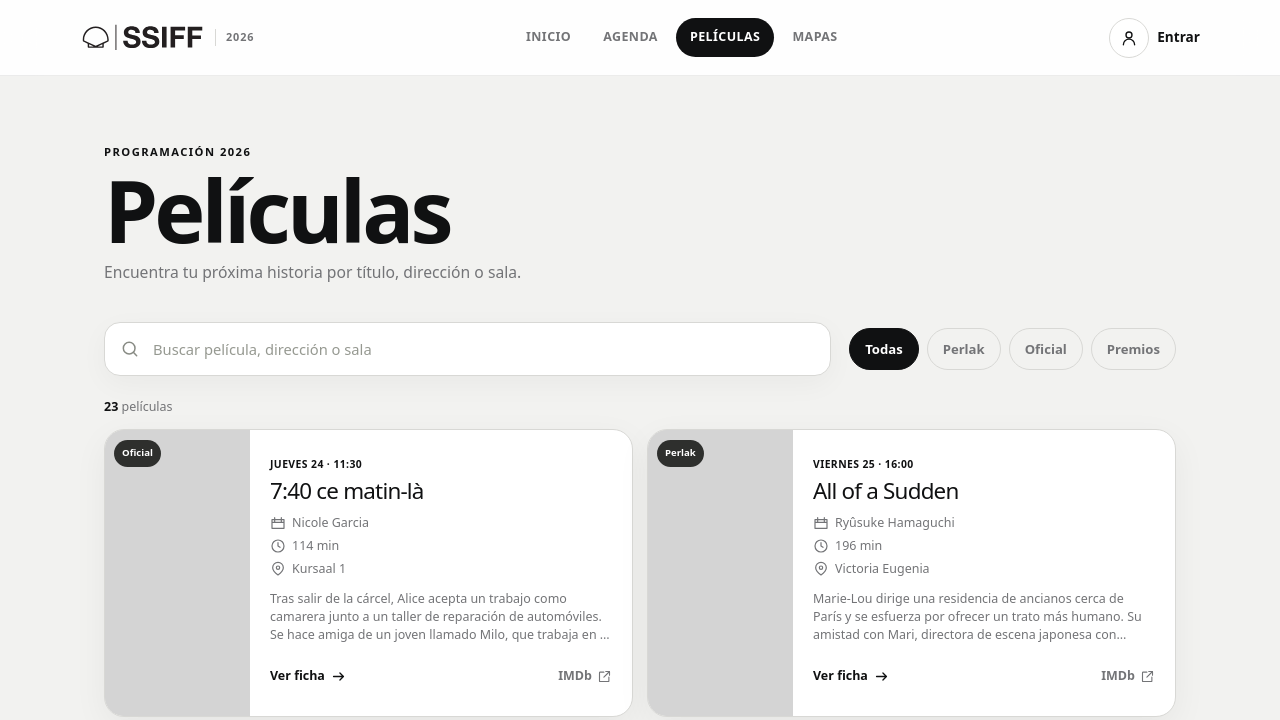
Test: actualiza las tarjetas al cambiar entre resultados filtrados
In the search field named "buscar películas": {"x": 483, "y": 349} [151,337,815,361], type "premio"
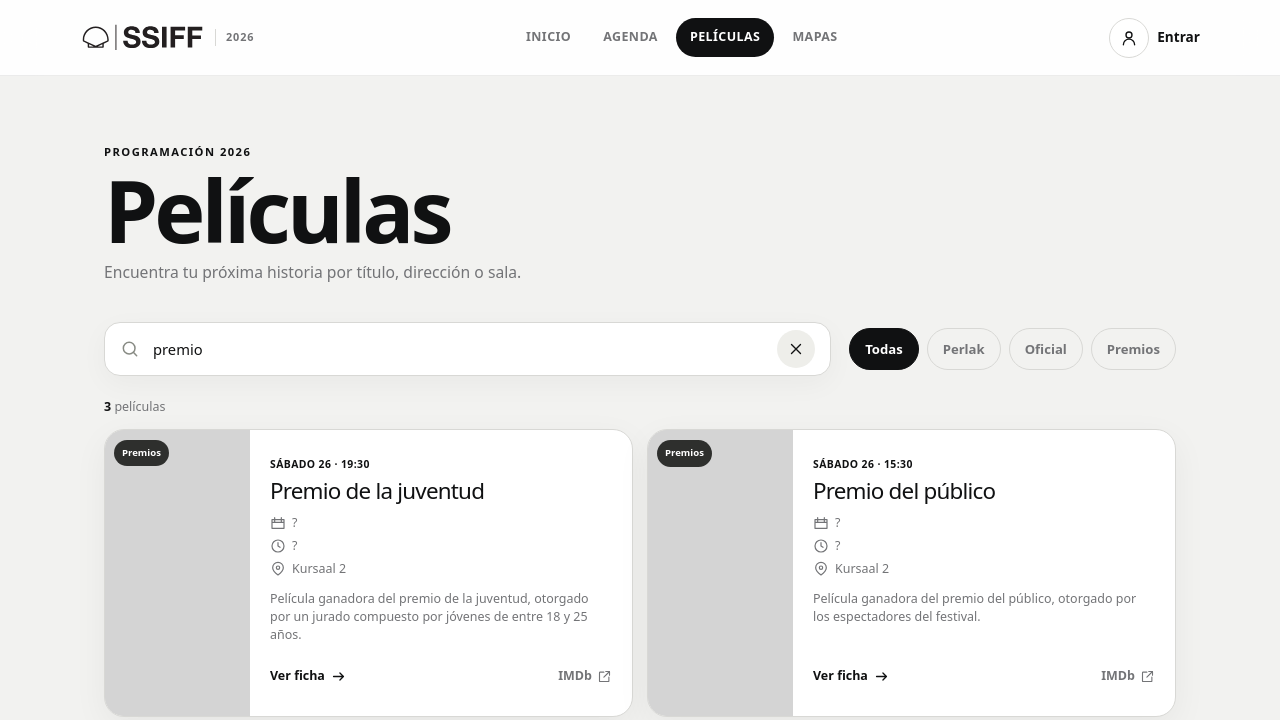
Expected: the element labelled "3 películas" is shown, [104,398,165,415]
Replace the text in the search field named "buscar películas" with "público": {"x": 459, "y": 349} [151,337,766,361]
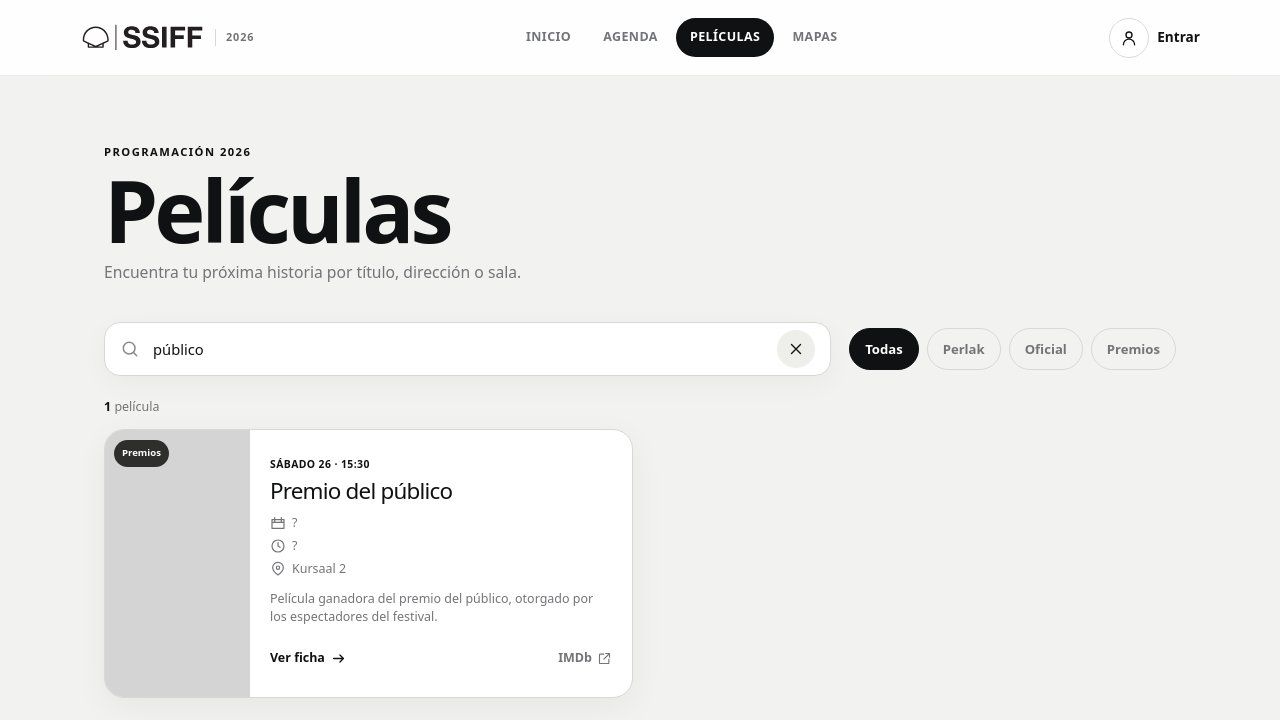
Expected: the heading "Premio del público" is shown, [270,475,452,506]
Now the element labelled "1 película" is shown, box [104,398,159,415]
Now the heading "Premio de la juventud" is gone
